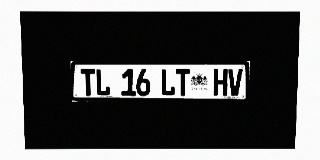1: (121, 69, 136, 96)
6: (136, 69, 150, 96)
H: (213, 69, 228, 96)
L: (95, 69, 110, 96), (161, 69, 175, 96)
T: (81, 69, 95, 96), (176, 69, 190, 96)
V: (228, 69, 243, 96)
